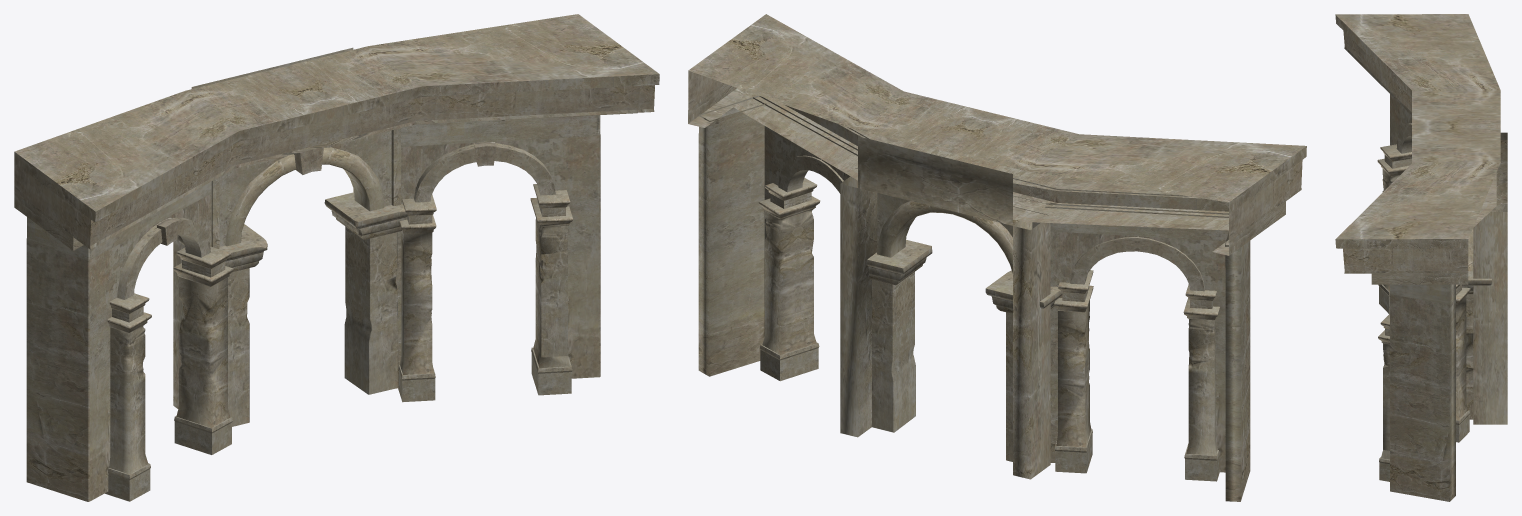
The model's file is MastabaWall.fbx.
3 views of the same model, side by side, from view 1: azimuth 30°, elevation 25°; view 2: azimuth 150°, elevation 25°; view 3: azimuth 270°, elevation 25° (orthographic). The views are drawn at different scales.
Parts seen in each view (by area): view 1: LV_AncientRuins_Dungeon_MastabaWall03_SM_KBE; view 2: LV_AncientRuins_Dungeon_MastabaWall03_SM_KBE; view 3: LV_AncientRuins_Dungeon_MastabaWall03_SM_KBE.
Part boxes in pixels (bbox=[...]): LV_AncientRuins_Dungeon_MastabaWall03_SM_KBE: bbox=[14, 14, 659, 501]; LV_AncientRuins_Dungeon_MastabaWall03_SM_KBE: bbox=[688, 14, 1306, 501]; LV_AncientRuins_Dungeon_MastabaWall03_SM_KBE: bbox=[1335, 14, 1507, 501].
Size of the model in its own units: 4.84 by 2.66 by 1.56.
Materials: 4 (4 with a texture image).
